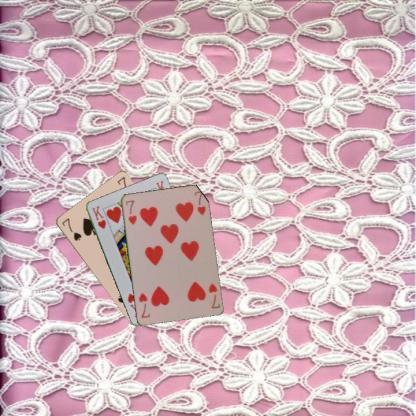7h: (123, 198, 138, 226), (206, 280, 220, 310)
7s: (59, 216, 83, 243)
Kh: (89, 202, 107, 230)
